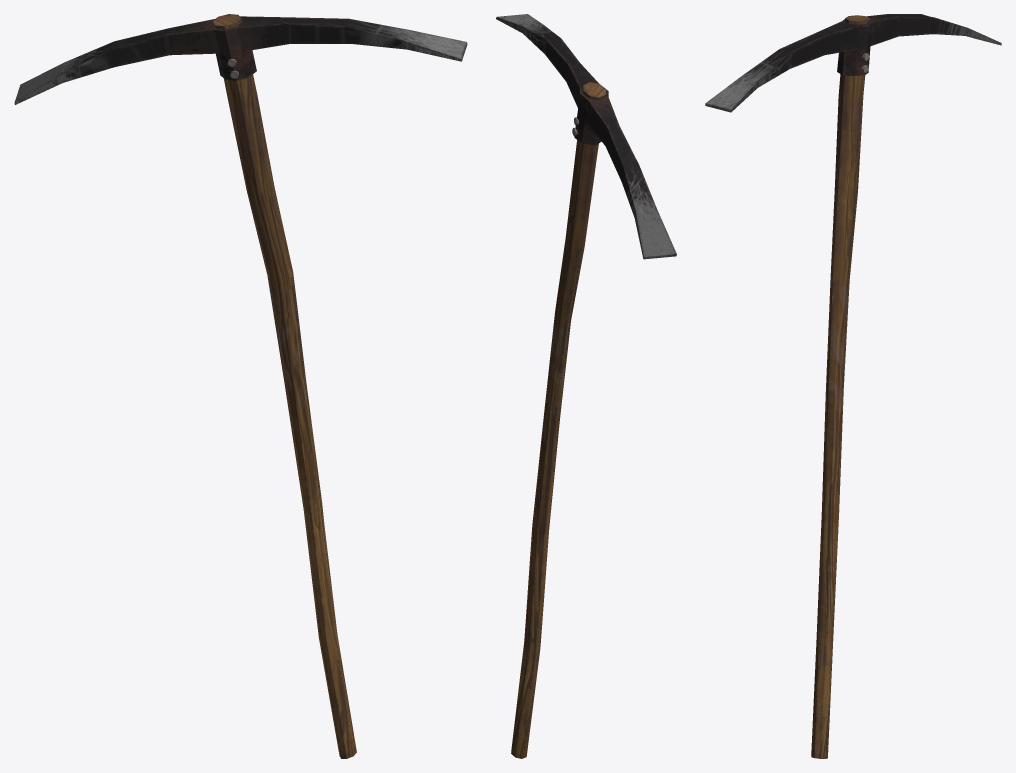
File: Pickaxe.fbx
3 renders of one model, left to right at view 1: azimuth 30°, elevation 25°; view 2: azimuth 150°, elevation 25°; view 3: azimuth 270°, elevation 25°, orthographic. The views are drawn at different scales.
Parts seen in each view (by area): view 1: Pickaxe_LP_Rev.001; view 2: Pickaxe_LP_Rev.001; view 3: Pickaxe_LP_Rev.001.
Part boxes in pixels (x1,y1,x2,y2): Pickaxe_LP_Rev.001: (14, 14, 467, 758); Pickaxe_LP_Rev.001: (496, 14, 676, 758); Pickaxe_LP_Rev.001: (705, 14, 1001, 758).
Bounding box in the file's own units: 46.31 × 54.21 × 121.
1 material, 1 textured.
